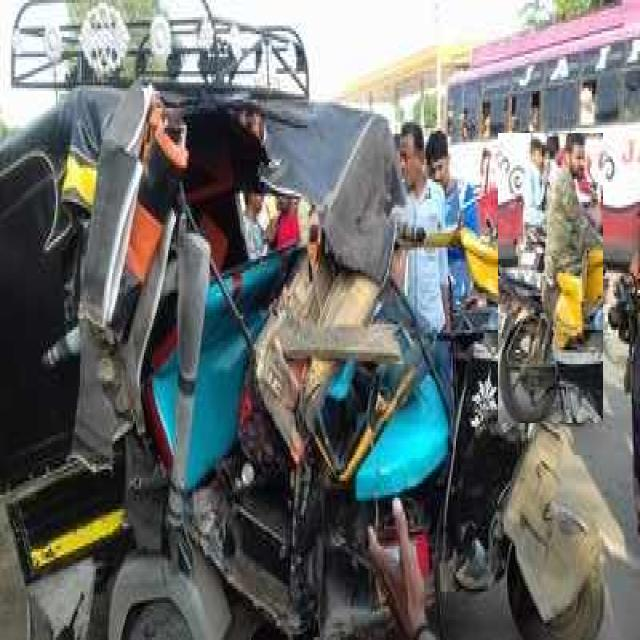accident: (0, 4, 626, 639)
bus: (449, 0, 640, 268)
car: (472, 49, 473, 69)
motorcycle: (499, 134, 603, 423)
